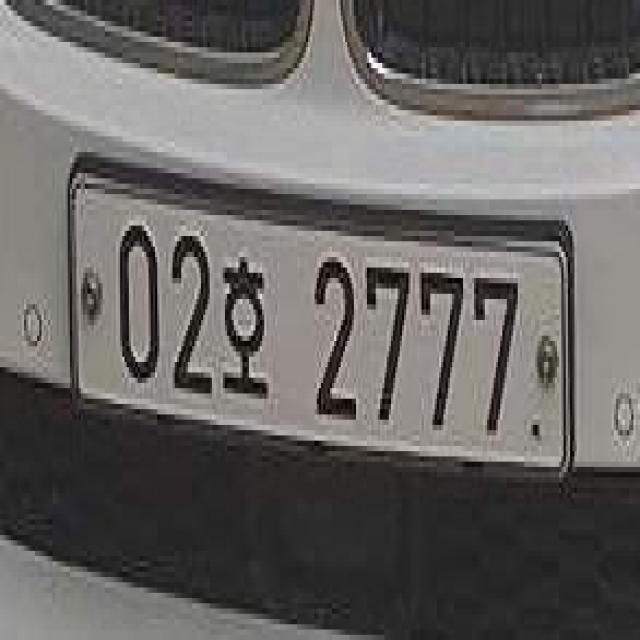illegal_plate: (66, 147, 574, 504)
